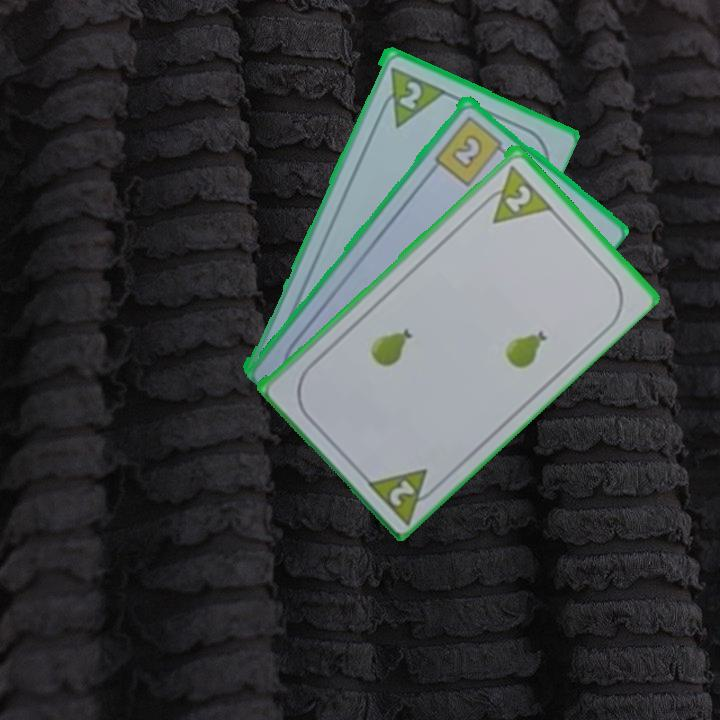2b: (431, 112, 511, 188)
2p: (361, 463, 445, 526), (373, 62, 446, 130), (501, 181, 534, 215)
